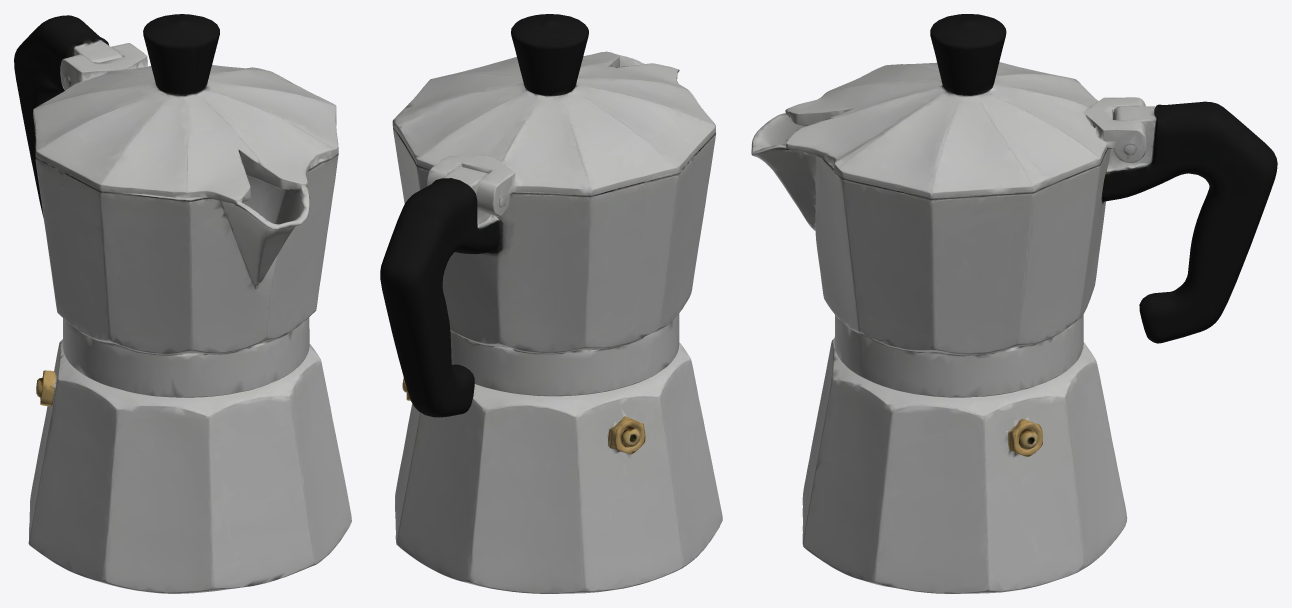
File: moka.glb
3 views of the same model, side by side, from view 1: azimuth 30°, elevation 25°; view 2: azimuth 150°, elevation 25°; view 3: azimuth 270°, elevation 25° (orthographic).
Visible parts, largest first — view 1: tripo_node_a2af7110-74ec-494b-987e-ddfedf0c3a5e; view 2: tripo_node_a2af7110-74ec-494b-987e-ddfedf0c3a5e; view 3: tripo_node_a2af7110-74ec-494b-987e-ddfedf0c3a5e.
Boxes of the visible parts, x1=… form: tripo_node_a2af7110-74ec-494b-987e-ddfedf0c3a5e: x1=14, y1=14, x2=351, y2=593; tripo_node_a2af7110-74ec-494b-987e-ddfedf0c3a5e: x1=380, y1=14, x2=722, y2=593; tripo_node_a2af7110-74ec-494b-987e-ddfedf0c3a5e: x1=751, y1=14, x2=1277, y2=593.
Bounding box in the file's own units: 0.5838 × 1 × 0.9284.
1 material, 1 textured.
